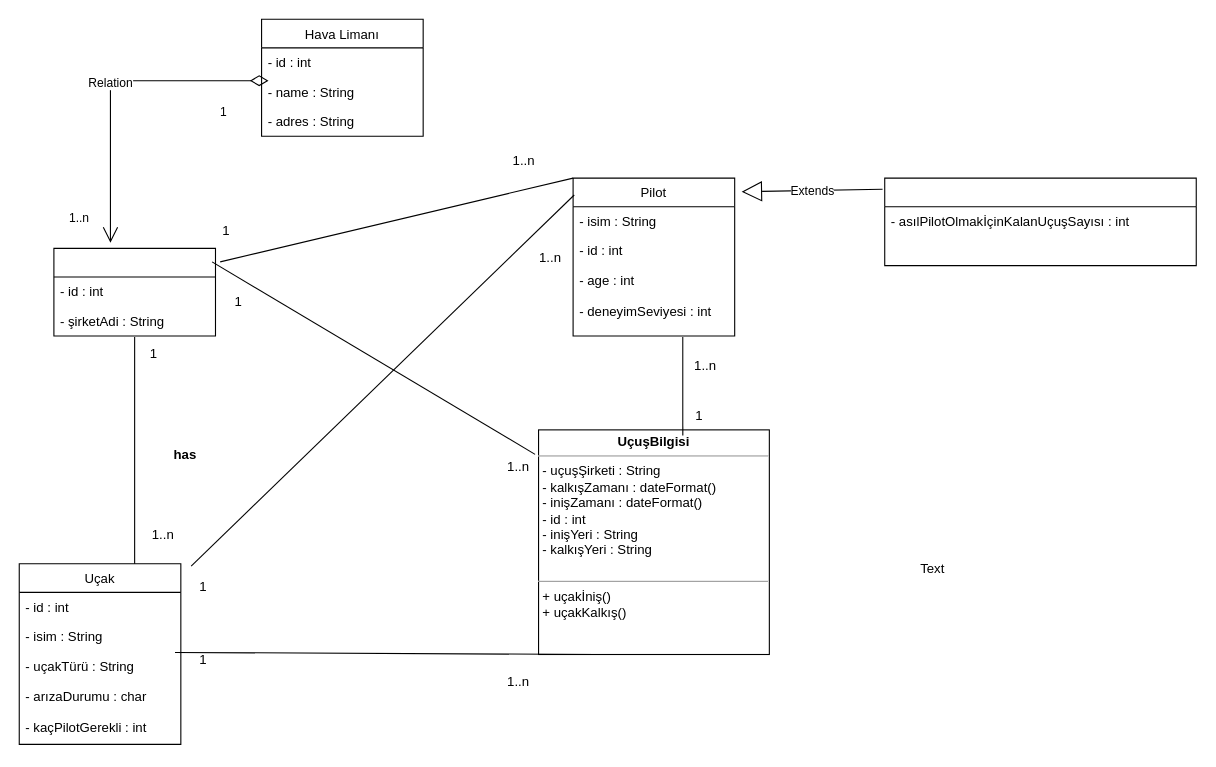
Image size: 1216x767. Some labels were removed from this diagram. The shapes that lost their labels are listed below. From the top down, each one's box as (x1, y1, x2, y2) in pixels, then its label:
(884, 177, 1196, 266): Co-pilot
(53, 247, 215, 336): Havayolu Şirketi
